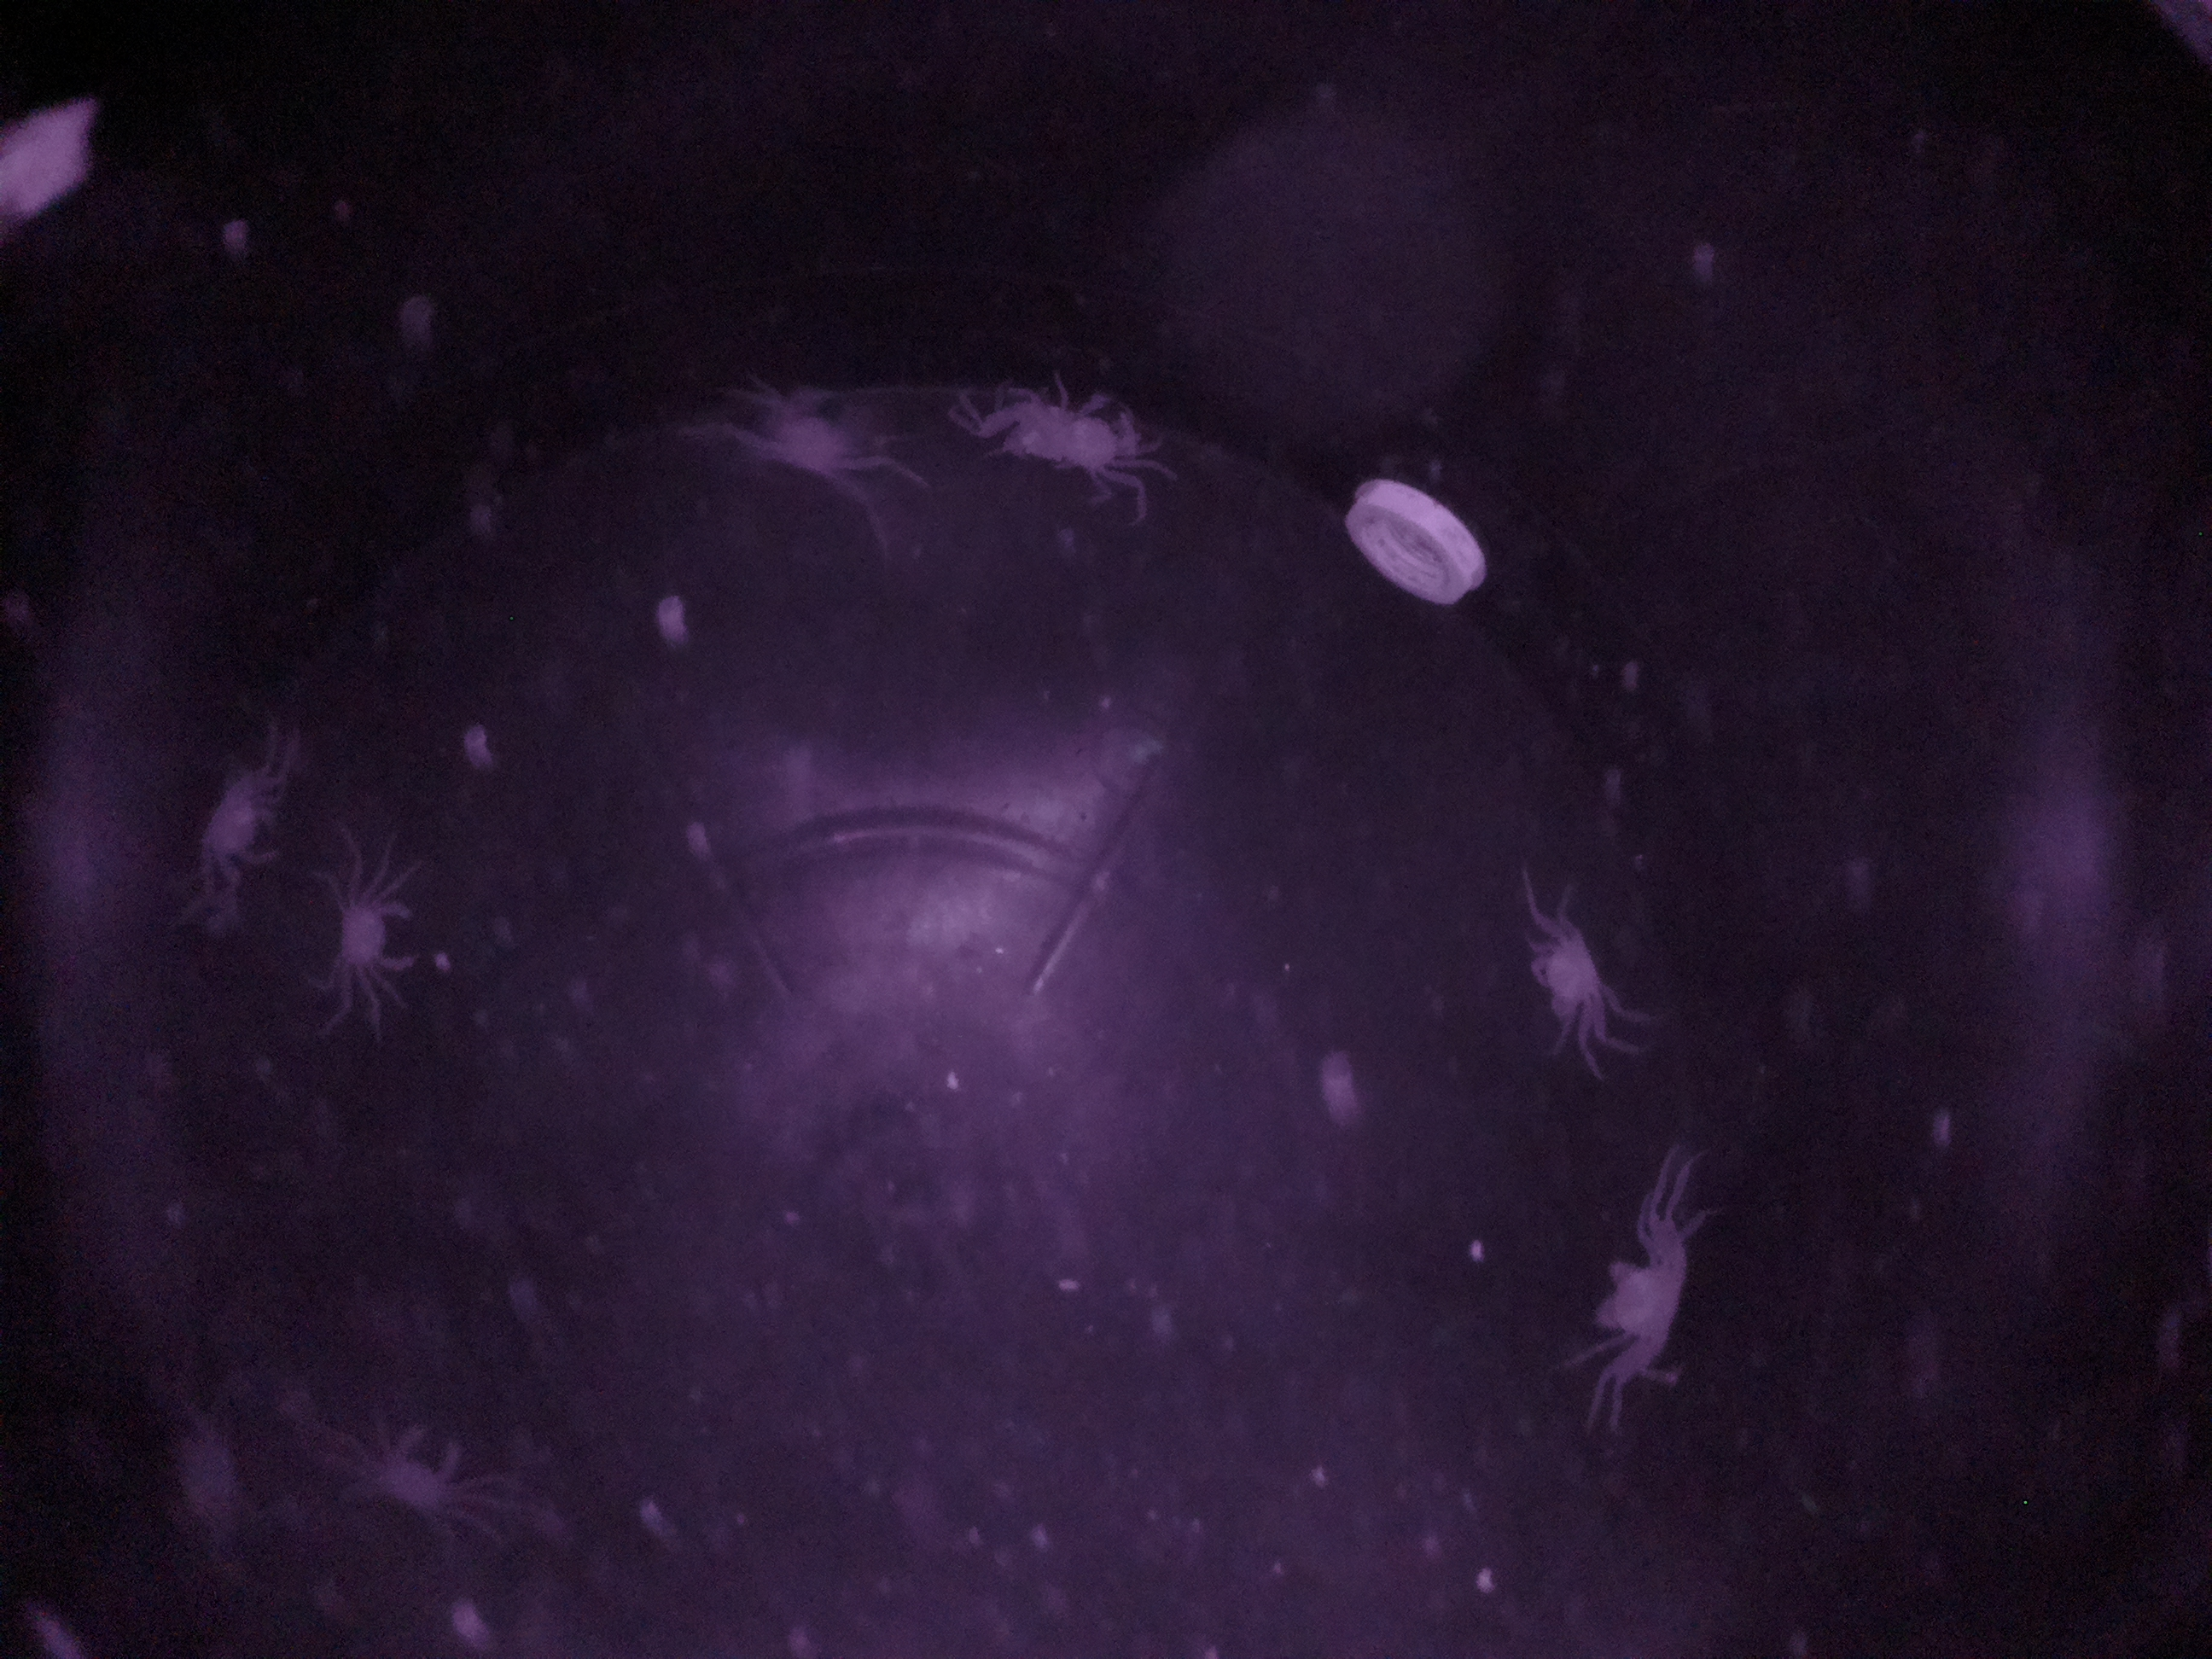Crab: (1568, 1220, 1717, 1392), (300, 875, 444, 995), (1519, 918, 1634, 1044)
